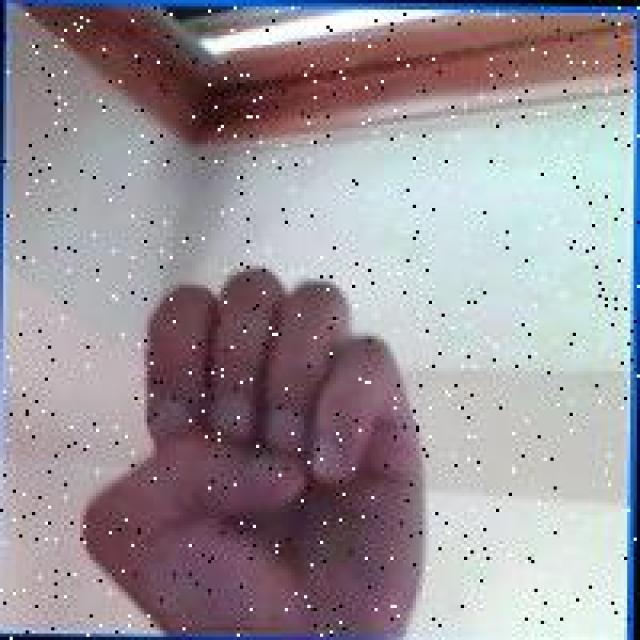E: (74, 258, 442, 635)
